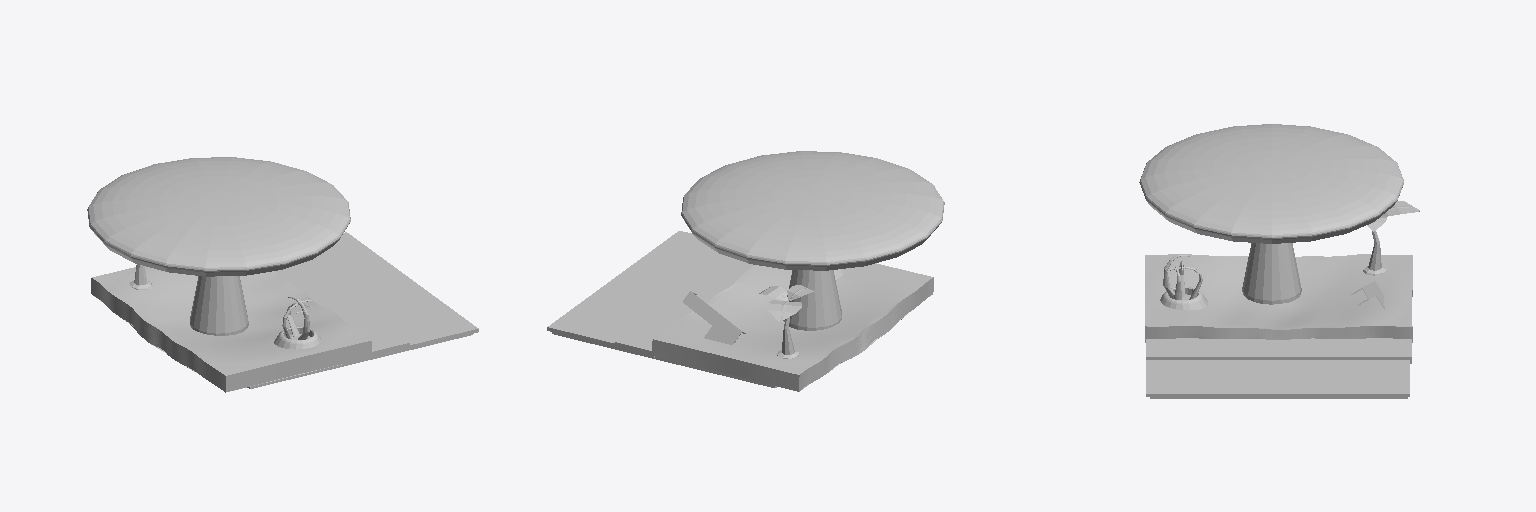
The picture shows the model from 3 angles: view 1: azimuth 30°, elevation 25°; view 2: azimuth 150°, elevation 25°; view 3: azimuth 270°, elevation 25°; orthographic projection.
Parts seen in each view (by area): view 1: bigmushroomfinalys:pCylinder2, pPlane1, pasted__pCube2 group, pCube2, TENTACLEFINALYS:pCylinder2; view 2: bigmushroomfinalys:pCylinder2, pPlane1, pasted__pCube2 group, pCube2, Bigleaftreefinal:pCylinder2, FINALSCENETABLE:pCube1; view 3: bigmushroomfinalys:pCylinder2, pPlane1, pasted__pCube2 group, pCube2, Bigleaftreefinal:pCylinder2, TENTACLEFINALYS:pCylinder2.
Part boxes in pixels (bbox=[...]): bigmushroomfinalys:pCylinder2: bbox=[87, 157, 350, 335]; pPlane1: bbox=[91, 266, 371, 392]; pasted__pCube2 group: bbox=[302, 232, 478, 348]; pCube2: bbox=[277, 263, 409, 358]; TENTACLEFINALYS:pCylinder2: bbox=[274, 327, 320, 349]; bigmushroomfinalys:pCylinder2: bbox=[681, 151, 944, 330]; pPlane1: bbox=[652, 263, 933, 391]; pasted__pCube2 group: bbox=[547, 231, 729, 346]; pCube2: bbox=[615, 257, 754, 357]; Bigleaftreefinal:pCylinder2: bbox=[759, 285, 814, 358]; FINALSCENETABLE:pCube1: bbox=[683, 291, 745, 344]; bigmushroomfinalys:pCylinder2: bbox=[1139, 124, 1403, 304]; pPlane1: bbox=[1145, 254, 1412, 342]; pasted__pCube2 group: bbox=[1146, 360, 1409, 396]; pCube2: bbox=[1146, 338, 1411, 363]; Bigleaftreefinal:pCylinder2: bbox=[1363, 201, 1419, 275]; TENTACLEFINALYS:pCylinder2: bbox=[1160, 287, 1207, 309].
Bounding box in the file's own units: 33.56 × 14.73 × 26.26.